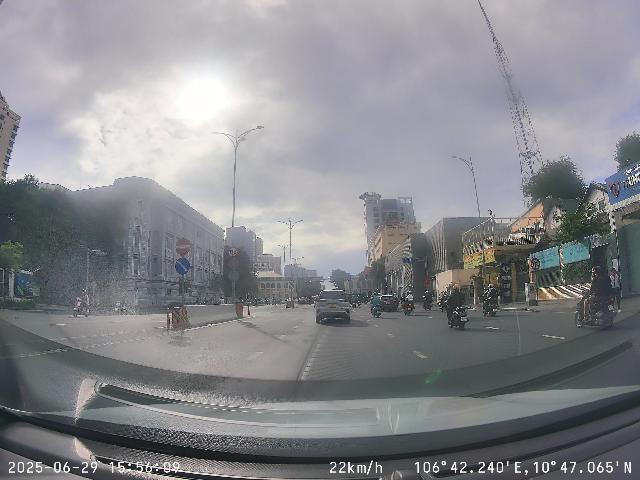102-cam-di-nguoc-chieu: (176, 238, 191, 255)
124b-cam-oto-quay-dau-xe: (228, 247, 238, 258), (531, 258, 540, 270)
302a-huong-phai-di-vong-chuong-ngai-vat-1: (175, 257, 190, 275)
